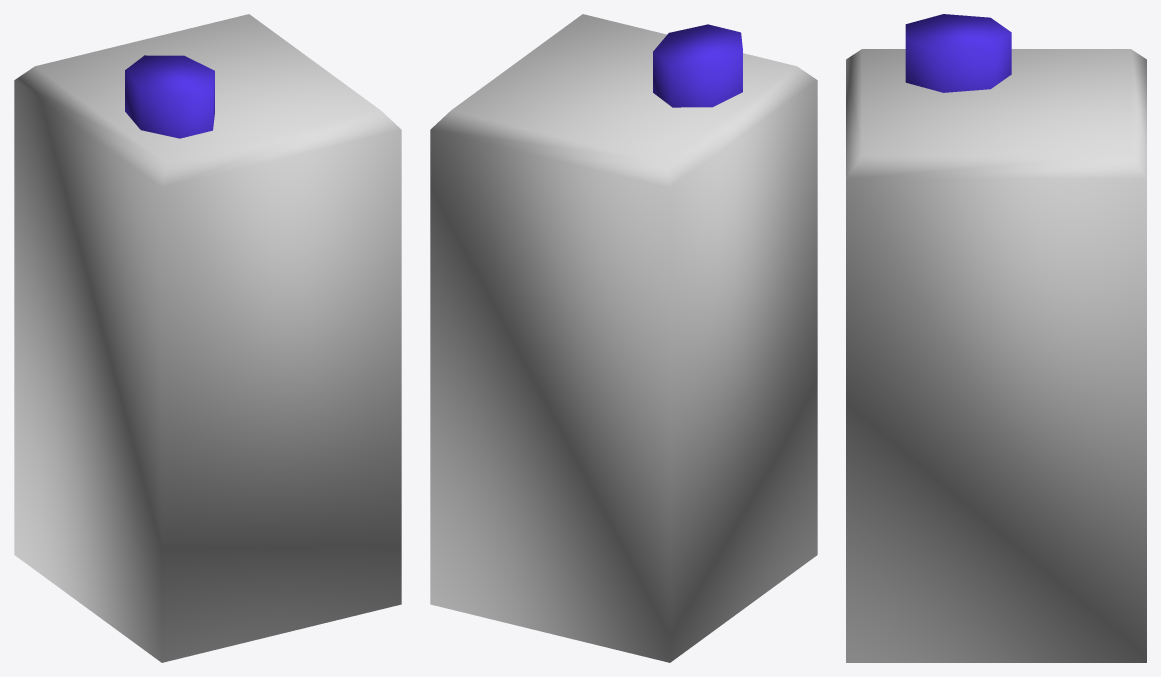
Rendered from succo_cocco_mini.fbx.
3 views of the same model, side by side, from view 1: azimuth 30°, elevation 25°; view 2: azimuth 150°, elevation 25°; view 3: azimuth 270°, elevation 25° (orthographic).
Visible parts, largest first — view 1: cocco_mini; view 2: cocco_mini; view 3: cocco_mini.
Boxes of the visible parts, <box> form: cocco_mini: <box>14,14,401,662</box>; cocco_mini: <box>430,14,817,662</box>; cocco_mini: <box>846,14,1146,662</box>.
Bounding box in the file's own units: 66.34 × 141 × 70.7.
